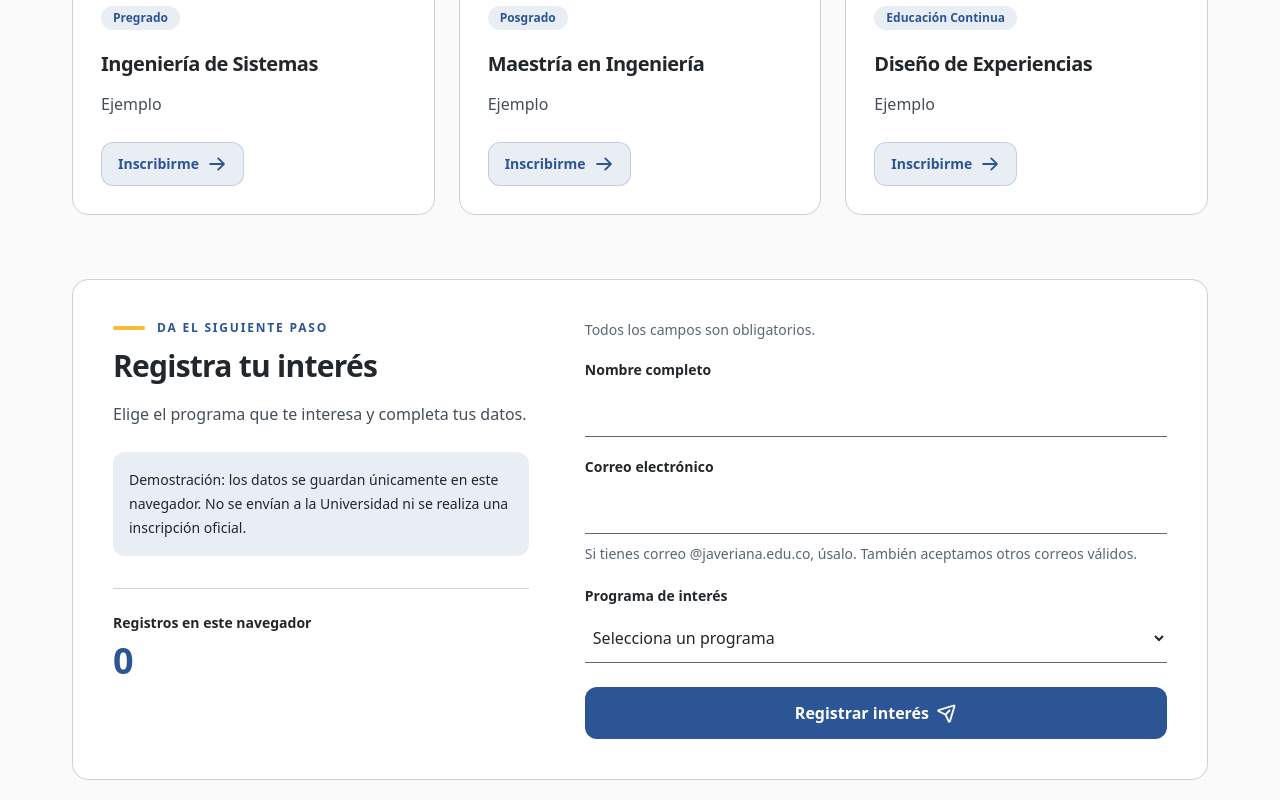
Test: filtros y registro › rechaza duplicados y mantiene el formulario para corregirlos
(page scrolled)
Expected: the heading "Ingeniería de Sistemas" is shown, top-left (101, 50), bottom-right (318, 77)
Type "  MARÍA   PÉREZ  " into the field labelled "Nombre completo".
click(876, 412); type("  MARÍA   PÉREZ  ")  # box top-left (585, 388), bottom-right (1167, 436)
Type "MARIA@JAVERIANA.EDU.CO" into the field labelled "Correo electrónico".
click(876, 509); type("MARIA@JAVERIANA.EDU.CO")  # box top-left (585, 484), bottom-right (1167, 534)
Select "Ingeniería de Sistemas" in the dropdown labelled "Programa de interés" at x=876, y=638, box top-left (585, 614), bottom-right (1167, 662)
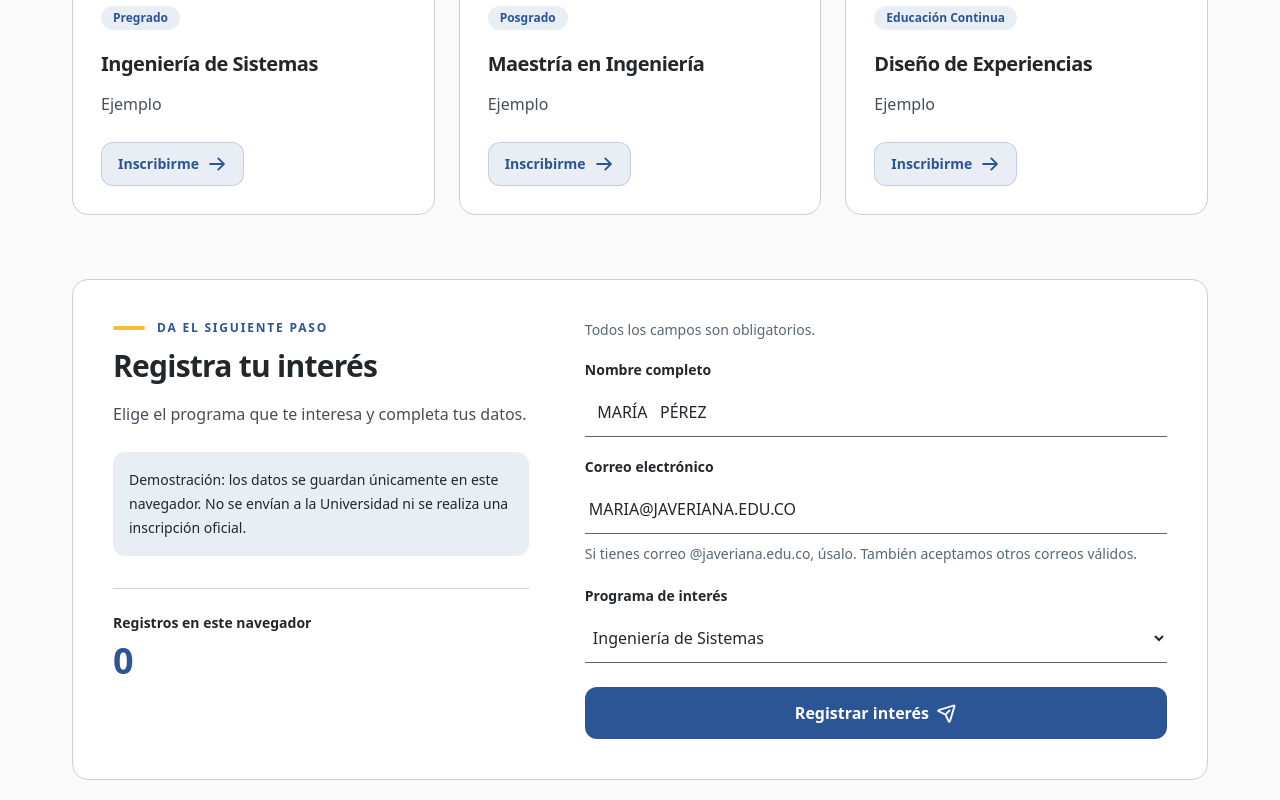
Click the button "Registrar interés".
click(876, 712)  # box top-left (585, 686), bottom-right (1167, 738)
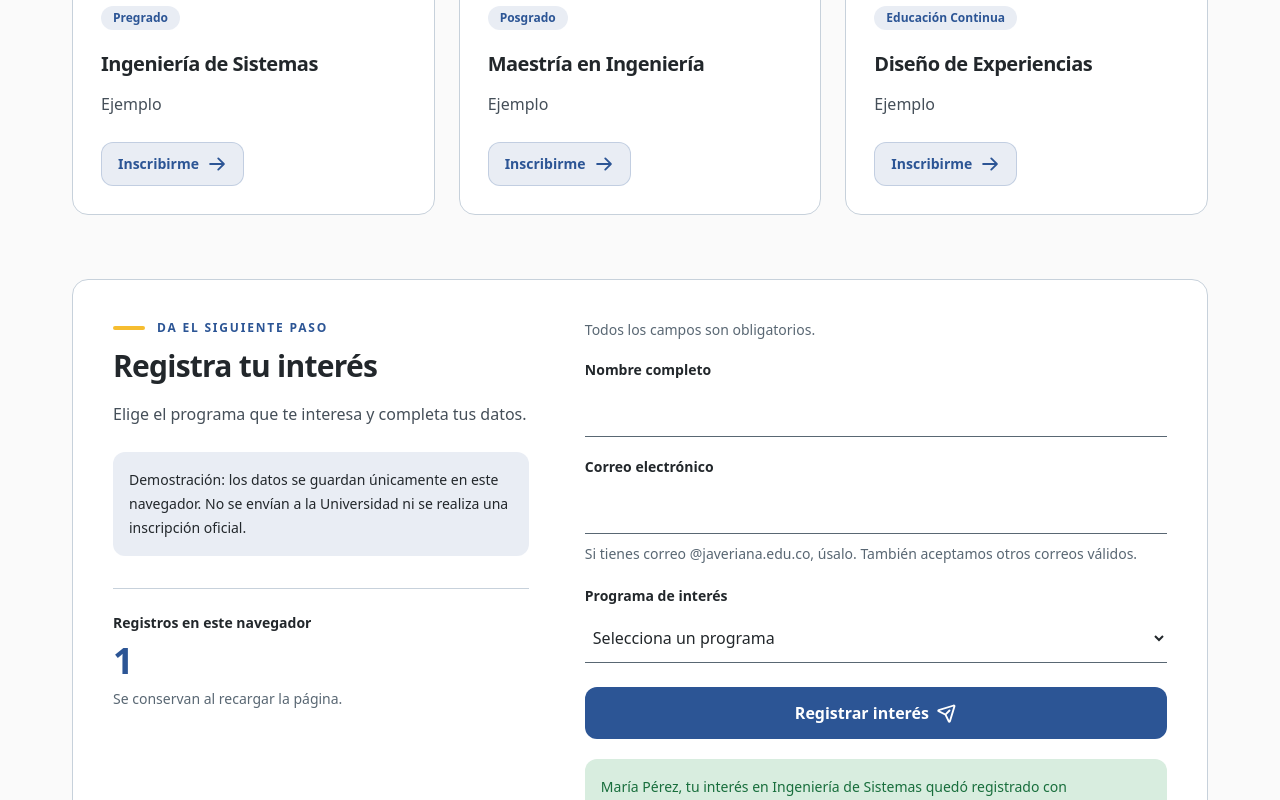
Type "  MARÍA   PÉREZ  " into the field labelled "Nombre completo".
click(876, 412); type("  MARÍA   PÉREZ  ")  # box top-left (585, 388), bottom-right (1167, 436)
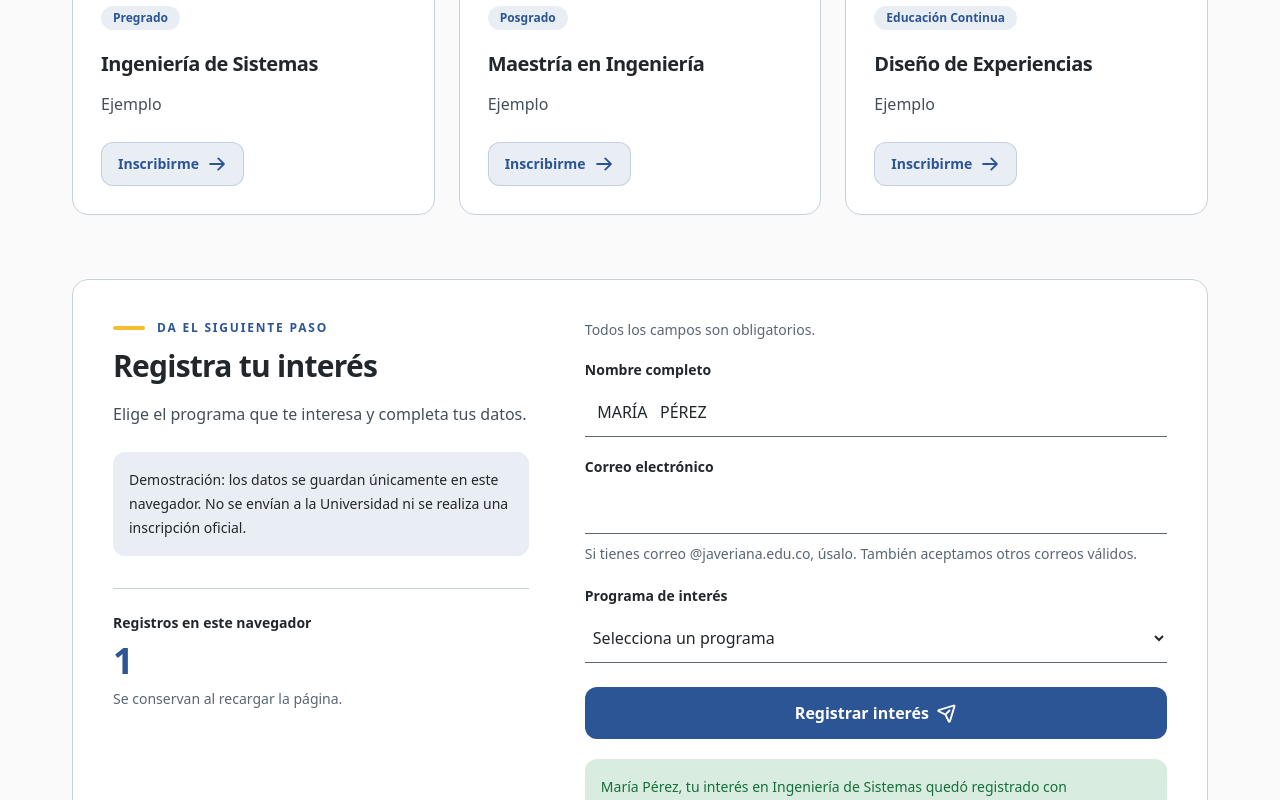
Type "MARIA@JAVERIANA.EDU.CO" into the field labelled "Correo electrónico".
click(876, 509); type("MARIA@JAVERIANA.EDU.CO")  # box top-left (585, 484), bottom-right (1167, 534)
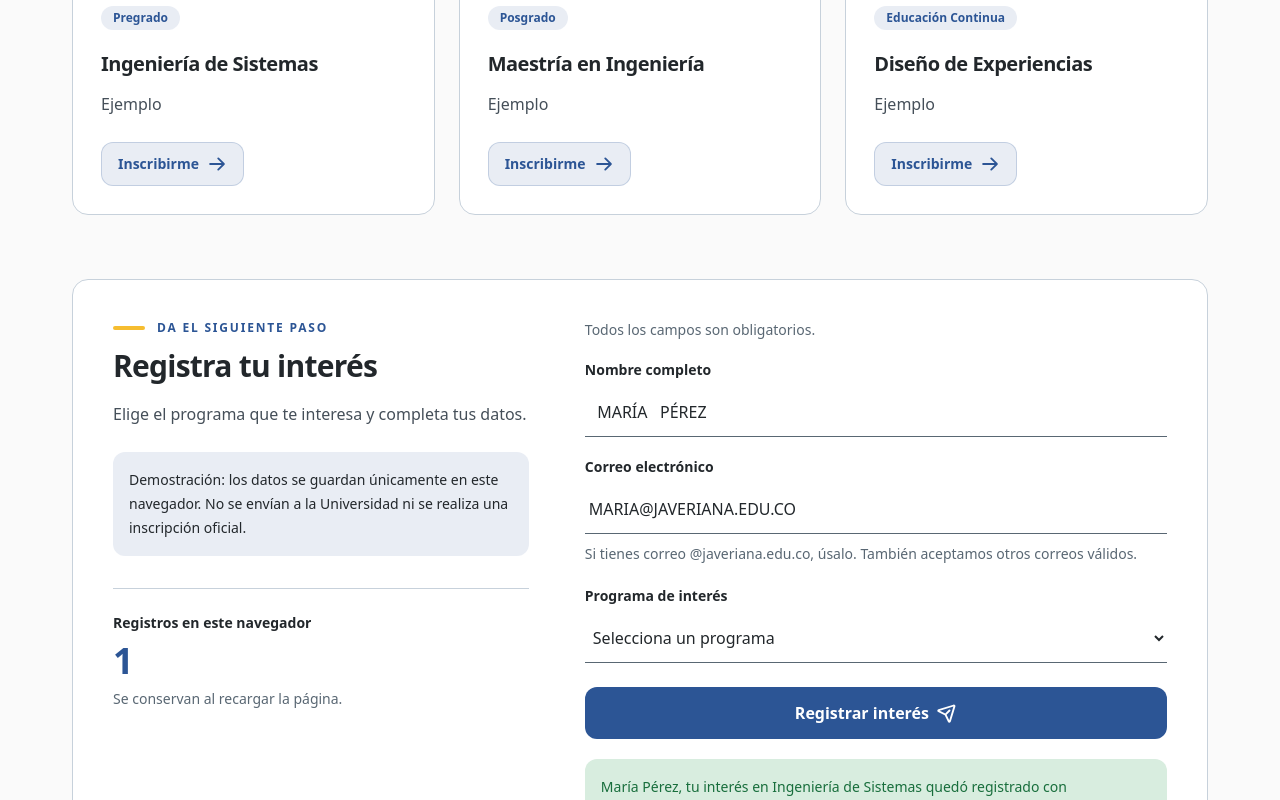
Select "Ingeniería de Sistemas" in the dropdown labelled "Programa de interés" at x=876, y=638, box top-left (585, 614), bottom-right (1167, 662)
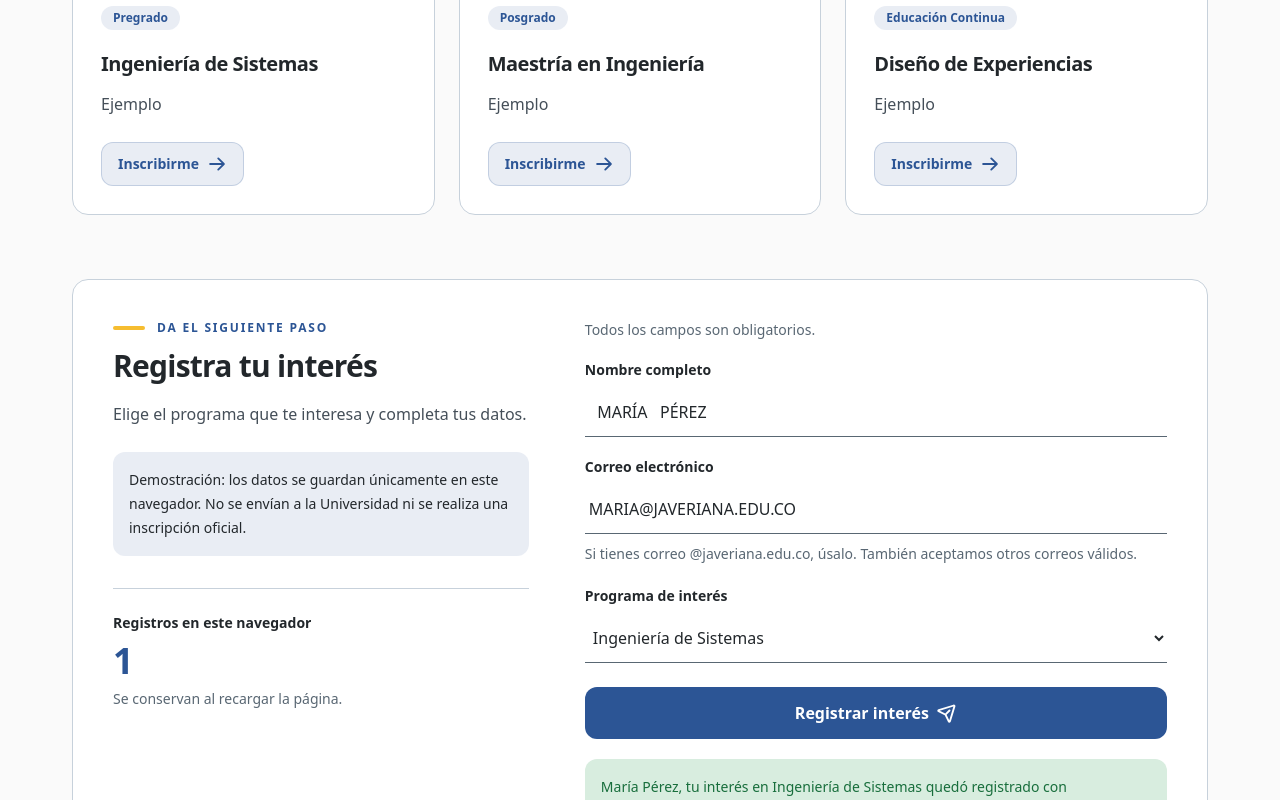
Click the button "Registrar interés".
click(876, 712)  # box top-left (585, 686), bottom-right (1167, 738)
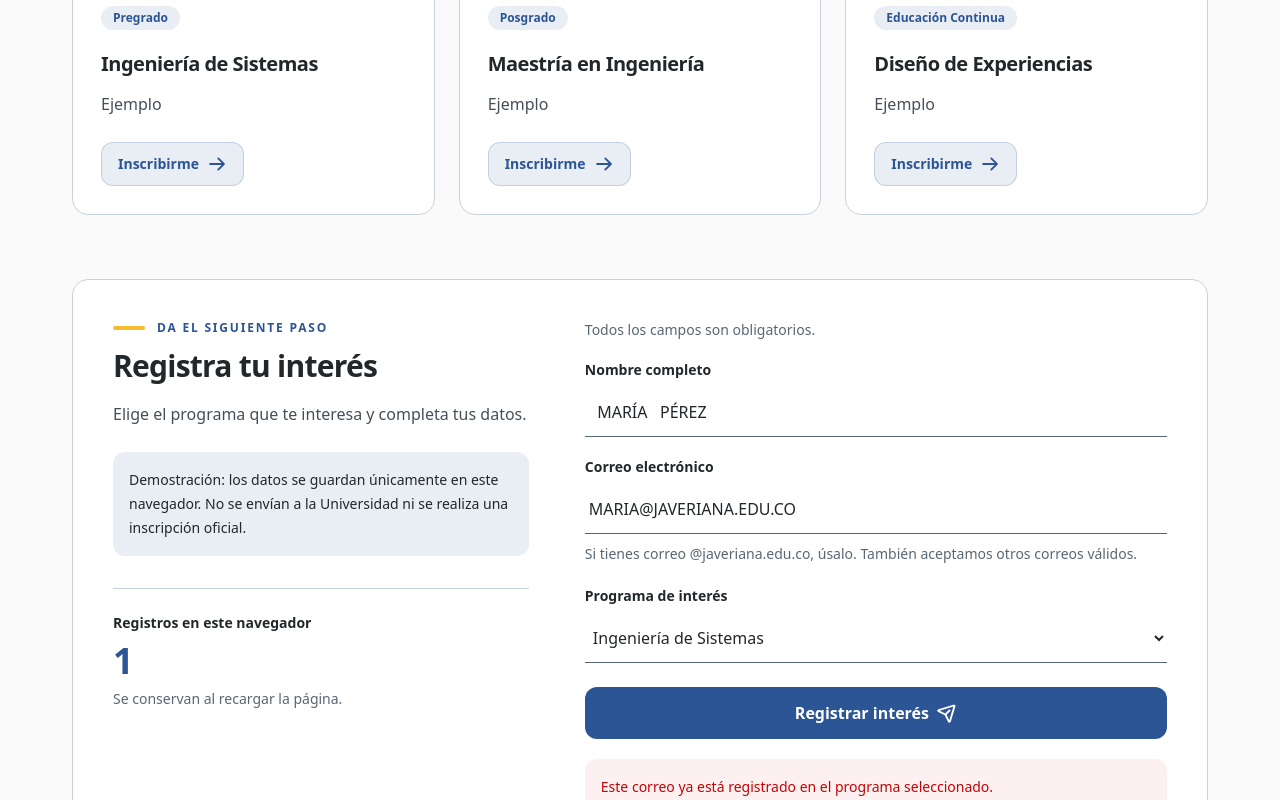
Now the message shows "ya está registrado", box top-left (601, 776), bottom-right (993, 796)
